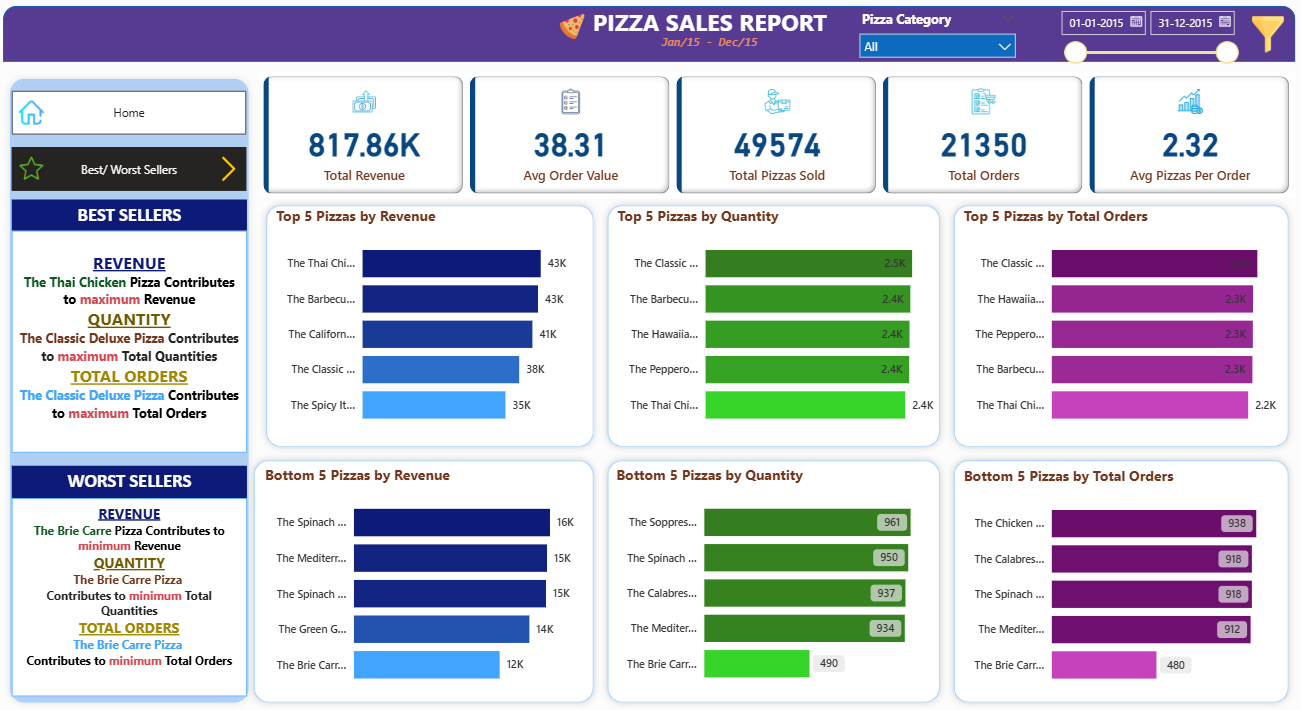

What the dashboard file says about the page in this screenshot:
{"tool":"powerbi","page":{"name":"Best/ Worst Sellers","canvas":[1500,820],"ordinal":1},"visuals":[{"type":"shape","box":[11.4,91.4,288.6,728.6],"z":0},{"type":"cardVisual","fields":{"Data":["pizza_sales_excel_file.Total Revenue","pizza_sales_excel_file.Avg Order Value","pizza_sales_excel_file.Total Pizzas Sold","pizza_sales_excel_file.Total Orders","pizza_sales_excel_file.Avg Pizzas Per Order"]},"box":[304.3,91.4,1184.3,144.3],"z":1000},{"type":"shape","box":[11.4,15.7,1477.1,64.3],"z":2000},{"type":"textbox","box":[668,11,302,54],"z":3000},{"type":"textbox","box":[709,43,220,31],"z":4000},{"type":"image","box":[641,20,40,39],"z":5000},{"type":"shape","box":[304.3,235.7,390,292],"z":6000},{"type":"textbox","box":[21.4,237.1,268.6,35.7],"z":7000},{"type":"textbox","box":[21.1,273.3,268.9,253.3],"z":8000},{"type":"textbox","box":[21.1,541.1,268.9,37.8],"z":9000},{"type":"textbox","box":[21.1,578.9,268.9,226.7],"z":10000},{"type":"slicer","title":"Daily Trend for Total Orders","fields":{"Values":["pizza_sales_excel_file.pizza_category"]},"box":[980,15.7,198.6,64.3],"z":11000},{"type":"slicer","title":"Daily Trend for Total Orders","fields":{"Values":["pizza_sales_excel_file.order_date"]},"box":[1208.6,11.4,222.9,80],"z":12000},{"type":"shape","box":[694.3,235.7,395.7,292],"z":13000},{"type":"shape","box":[1090,235.7,398.6,292],"z":14000},{"type":"shape","box":[290,527.1,404.3,292.9],"z":15000},{"type":"shape","box":[1090,527.1,398.6,292.9],"z":16000},{"type":"shape","box":[694.3,527.1,395.7,292.9],"z":17000},{"type":"barChart","title":"Top 5 Pizzas by Revenue","fields":{"Category":["pizza_sales_excel_file.pizza_name"],"Y":["pizza_sales_excel_file.Total Revenue"]},"box":[318.6,244.3,362.9,265.7],"z":18000},{"type":"barChart","title":"Bottom 5 Pizzas by Revenue","fields":{"Category":["pizza_sales_excel_file.pizza_name"],"Y":["pizza_sales_excel_file.Total Revenue"]},"box":[305.7,540,375.7,267.1],"z":19000},{"type":"barChart","title":"Top 5 Pizzas by Quantity","fields":{"Category":["pizza_sales_excel_file.pizza_name"],"Y":["pizza_sales_excel_file.Total Pizzas Sold"]},"box":[708.6,244.3,371.4,265.7],"z":20000},{"type":"barChart","title":"Bottom 5 Pizzas by Quantity","fields":{"Category":["pizza_sales_excel_file.pizza_name"],"Y":["pizza_sales_excel_file.Total Pizzas Sold"]},"box":[707.1,540,371.4,265.7],"z":21000},{"type":"barChart","title":"Top 5 Pizzas by Total Orders","fields":{"Category":["pizza_sales_excel_file.pizza_name"],"Y":["pizza_sales_excel_file.Total Orders"]},"box":[1104.3,244.3,371.4,265.7],"z":22000},{"type":"barChart","title":"Bottom 5 Pizzas by Total Orders","fields":{"Category":["pizza_sales_excel_file.pizza_name"],"Y":["pizza_sales_excel_file.Total Orders"]},"box":[1104.3,541.4,371.4,265.7],"z":23000},{"type":"pageNavigator","box":[21.1,176.7,268.9,50],"z":24000},{"type":"pageNavigator","box":[21.1,113.3,268.9,50],"z":25000},{"type":"image","box":[248.9,182.2,41.1,38.9],"z":26000},{"type":"image","box":[21.1,118.9,44.4,38.9],"z":27000},{"type":"image","box":[21.1,183.3,44.4,36.7],"z":28000},{"type":"image","box":[1431.4,22.9,51.4,51.4],"z":28001}]}

Visuals, with their boxes in screenshot pixels (x1, y1, x2, y2), scaled from the page's 1500x820 canvas onto the 1301x710 screenshot:
shape: locate(10, 79, 260, 709)
cardVisual - pizza_sales_excel_file.Total Revenue x pizza_sales_excel_file.Avg Order Value: locate(264, 79, 1291, 204)
shape: locate(10, 14, 1291, 69)
textbox: locate(579, 10, 841, 56)
textbox: locate(615, 37, 806, 64)
image: locate(556, 17, 591, 51)
shape: locate(264, 204, 602, 457)
textbox: locate(19, 205, 252, 236)
textbox: locate(18, 237, 252, 456)
textbox: locate(18, 469, 252, 501)
textbox: locate(18, 501, 252, 698)
"Daily Trend for Total Orders" slicer: locate(850, 14, 1022, 69)
"Daily Trend for Total Orders" slicer: locate(1048, 10, 1242, 79)
shape: locate(602, 204, 945, 457)
shape: locate(945, 204, 1291, 457)
shape: locate(252, 456, 602, 709)
shape: locate(945, 456, 1291, 709)
shape: locate(602, 456, 945, 709)
"Top 5 Pizzas by Revenue" barChart: locate(276, 212, 591, 442)
"Bottom 5 Pizzas by Revenue" barChart: locate(265, 468, 591, 699)
"Top 5 Pizzas by Quantity" barChart: locate(615, 212, 937, 442)
"Bottom 5 Pizzas by Quantity" barChart: locate(613, 468, 935, 698)
"Top 5 Pizzas by Total Orders" barChart: locate(958, 212, 1280, 442)
"Bottom 5 Pizzas by Total Orders" barChart: locate(958, 469, 1280, 699)
pageNavigator: locate(18, 153, 252, 196)
pageNavigator: locate(18, 98, 252, 141)
image: locate(216, 158, 252, 191)
image: locate(18, 103, 57, 137)
image: locate(18, 159, 57, 190)
image: locate(1242, 20, 1286, 64)
